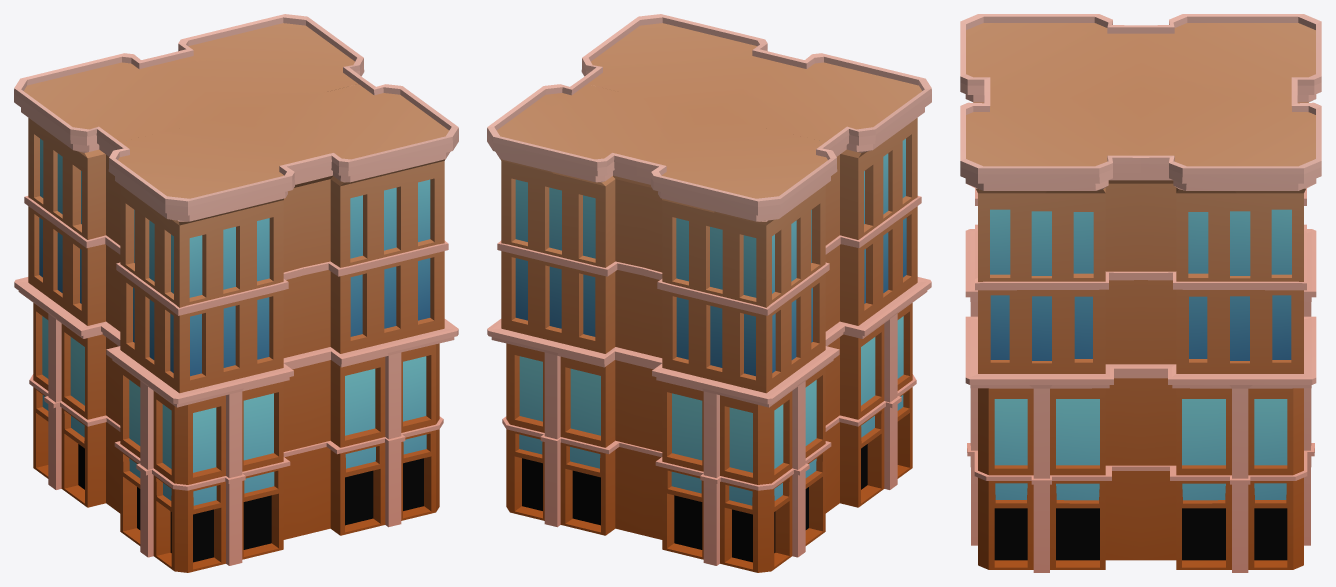
Rendered from liveBuildingBrown.fbx.
3 views of the same model, side by side, from view 1: azimuth 30°, elevation 25°; view 2: azimuth 150°, elevation 25°; view 3: azimuth 270°, elevation 25° (orthographic). The views are drawn at different scales.
Parts seen in each view (by area): view 1: House.001; view 2: House.001; view 3: House.001.
Boxes of the visible parts, box(x1,y1,x2,y2) form: House.001: box(14, 14, 458, 572); House.001: box(487, 14, 931, 572); House.001: box(960, 14, 1321, 572).
Bounding box in the file's own units: 2119 × 2618 × 2098.
4 materials, 3 textured.
